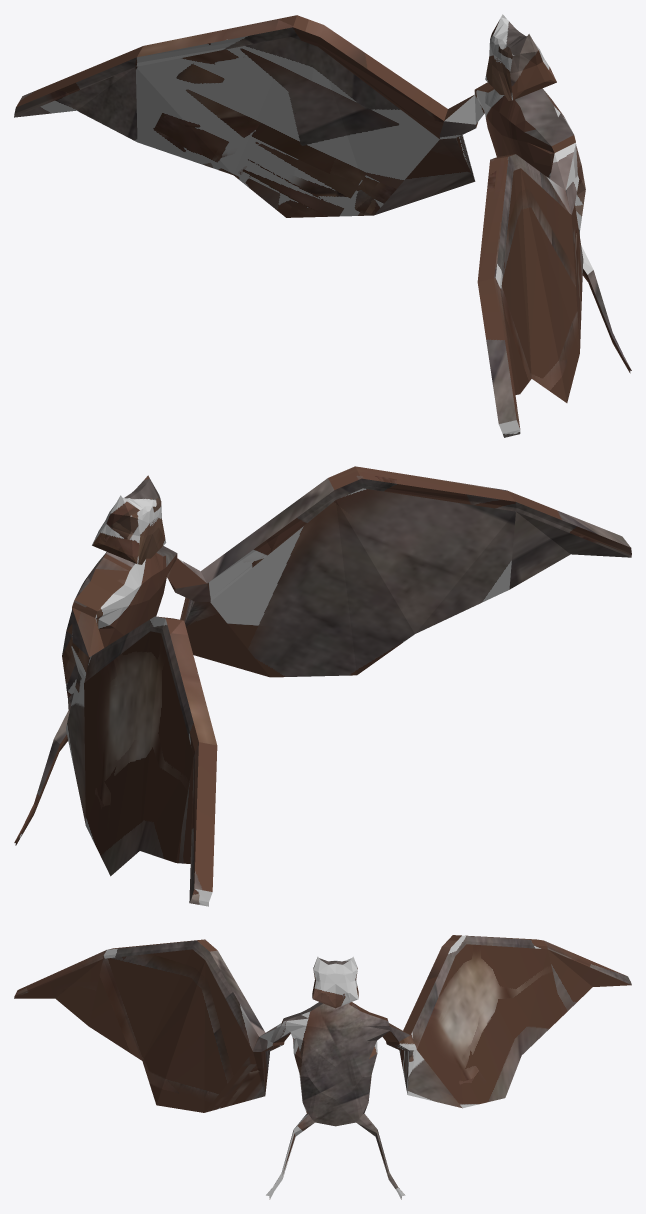
The model's file is Enemigo112.obj.
3 views of the same model, one above another, from view 1: azimuth 30°, elevation 25°; view 2: azimuth 150°, elevation 25°; view 3: azimuth 270°, elevation 25° (orthographic). The views are drawn at different scales.
Parts seen in each view (by area): view 1: Plano; view 2: Plano; view 3: Plano.
Part boxes in pixels (bbox=[...]): Plano: bbox=[14, 14, 631, 437]; Plano: bbox=[14, 466, 631, 906]; Plano: bbox=[14, 935, 631, 1199].
Bounding box in the file's own units: 0.8336 × 0.7439 × 1.88.
Materials: 1 (1 with a texture image).
